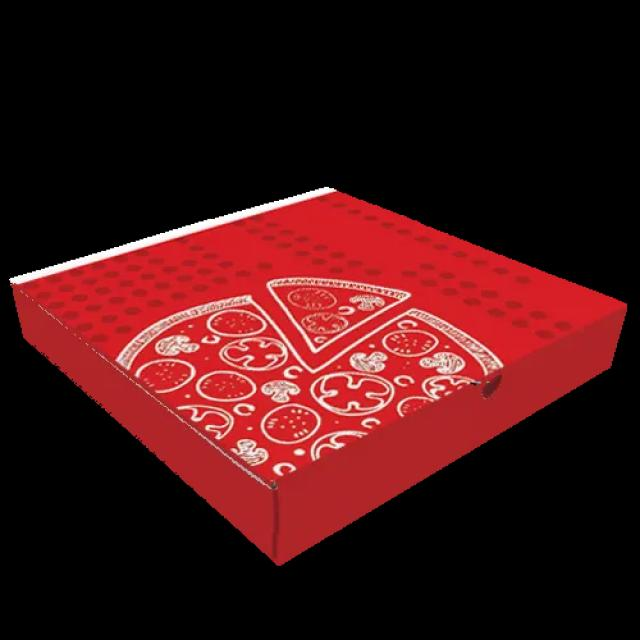cardboard_box: (14, 166, 639, 596)
